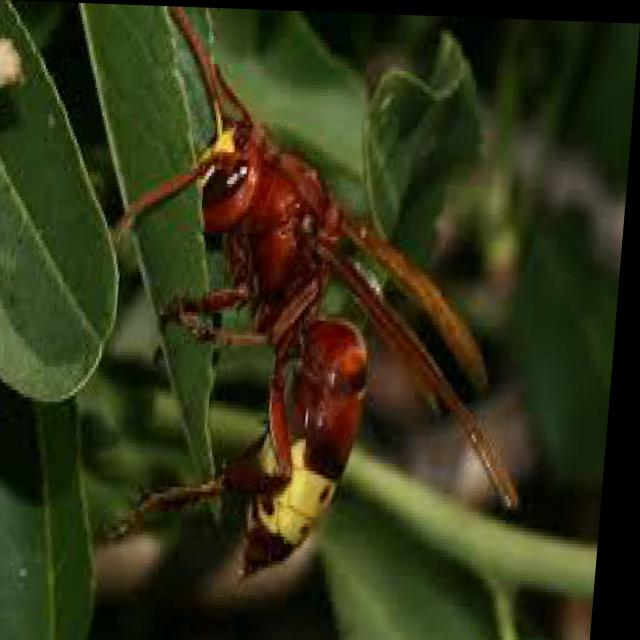Vespa Orientalis: (82, 4, 567, 600)
